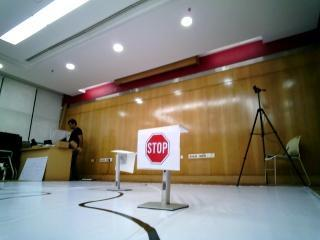stop: (138, 128, 184, 171)
